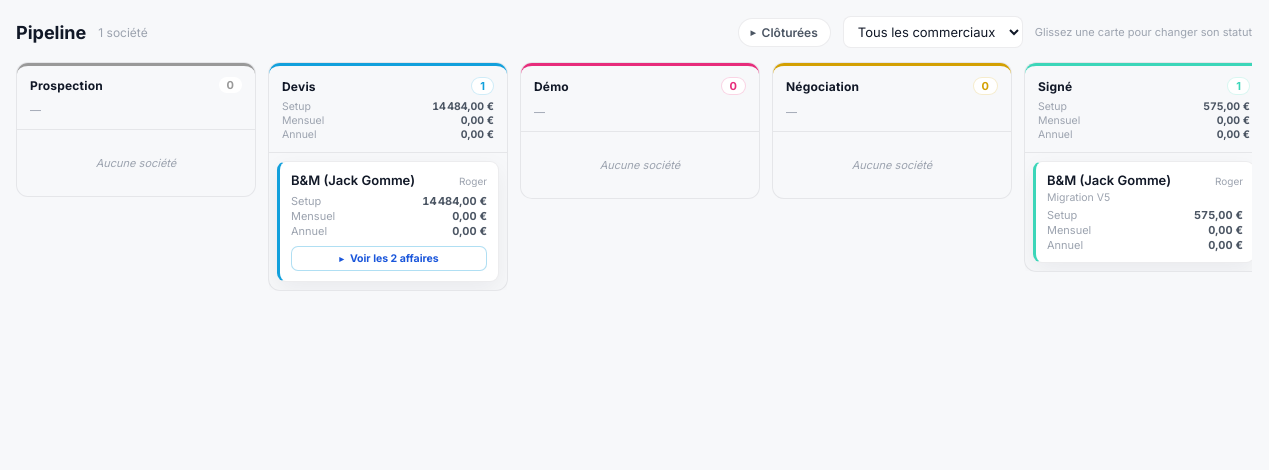
Test case: KanbanView — affaire gagnée d'une société encore active › fait DISPARAITRE l'affaire gagnee de la colonne Devis
Expected: the element with test id "col-cards-Devis" shows "B&M (Jack Gomme)", [291,172,415,188]
What coordinates should you click on to do the following:
click the button "▸ Voir les 2 affaires"
I would click on:
 (389, 258)
Its box is [291,246,487,271].
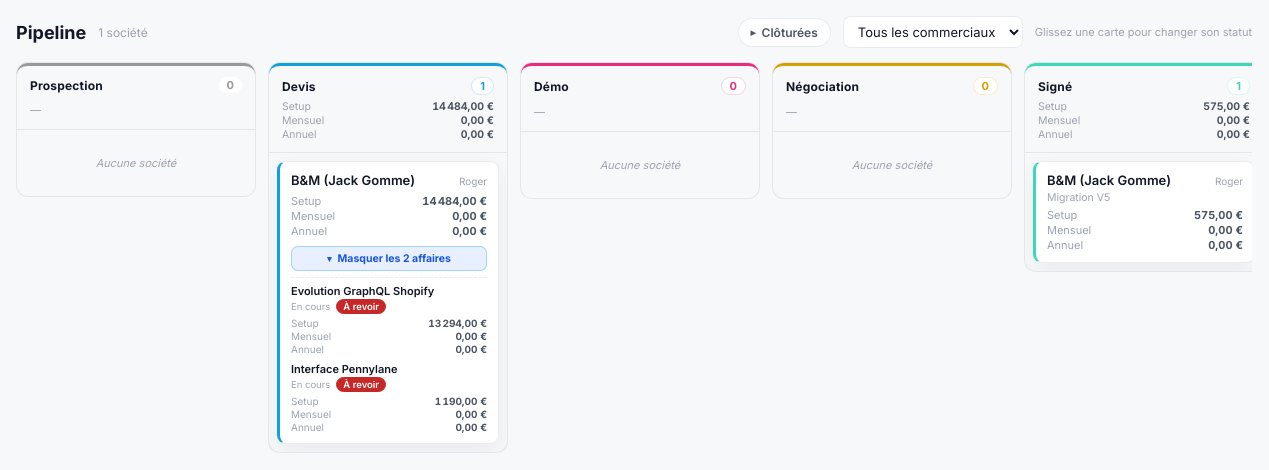
Expected: the element with test id "col-cards-Devis" does not show "Migration V5"
Result: the element with test id "col-cards-Devis" shows "Evolution GraphQL Shopify" at [291,284,434,298]
Result: the element with test id "col-cards-Devis" shows "Interface Pennylane" at [291,362,397,376]
